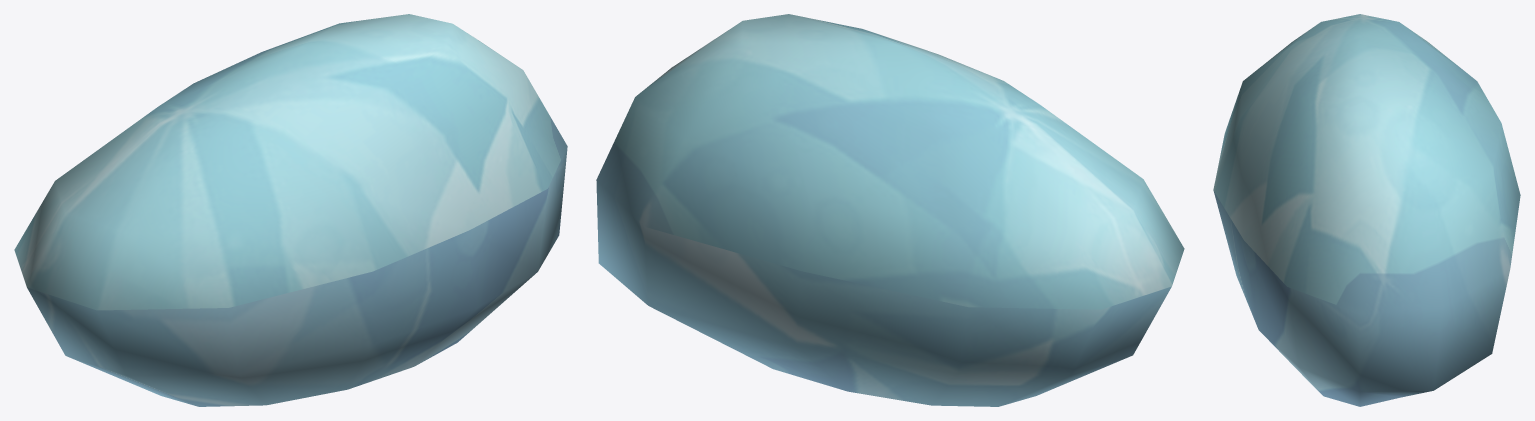
Rendered from Hail-BingBao_1.FBX.
3 renders of one model, left to right at view 1: azimuth 30°, elevation 25°; view 2: azimuth 150°, elevation 25°; view 3: azimuth 270°, elevation 25°, orthographic. The views are drawn at different scales.
Visible parts, largest first — view 1: Hail-BingBao_1; view 2: Hail-BingBao_1; view 3: Hail-BingBao_1.
Boxes of the visible parts, box(x1,y1,x2,y2) form: Hail-BingBao_1: box(14, 14, 567, 406); Hail-BingBao_1: box(596, 14, 1184, 406); Hail-BingBao_1: box(1213, 14, 1520, 406).
Size of the model in its own units: 7.64 by 4.56 by 3.98.
